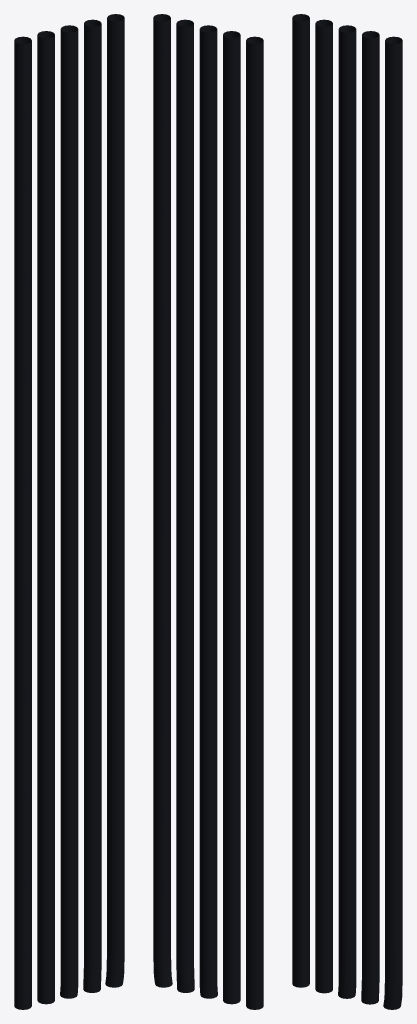
File: test_wallwires_6.fbx
3 views of the same model, side by side, from view 1: azimuth 30°, elevation 25°; view 2: azimuth 150°, elevation 25°; view 3: azimuth 330°, elevation 25° (orthographic).
Parts seen in each view (by area): view 1: wallwires6; view 2: wallwires6; view 3: wallwires6.
Boxes of the visible parts, bbox=[...] form: wallwires6: bbox=[14, 14, 124, 1009]; wallwires6: bbox=[153, 14, 263, 1009]; wallwires6: bbox=[292, 14, 402, 1009].
Bounding box in the file's own units: 28.19 × 240 × 4.
